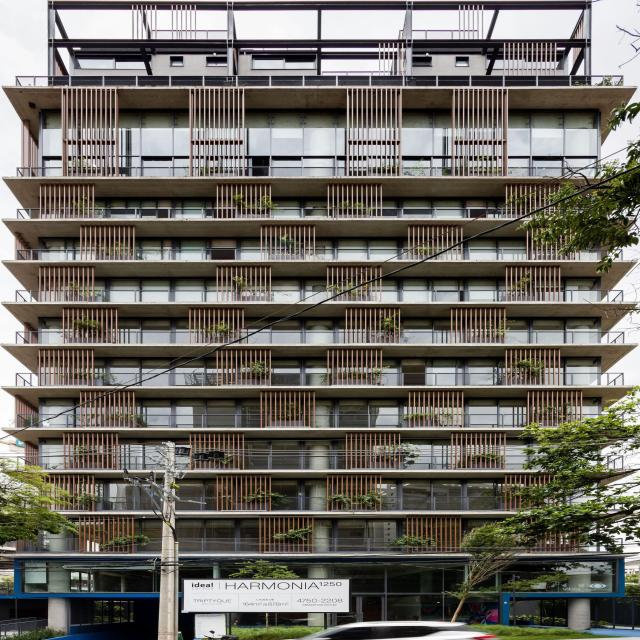Railing: (21, 538, 545, 552), (14, 373, 624, 385), (15, 248, 622, 260), (14, 332, 621, 343), (15, 291, 621, 302), (18, 415, 551, 426), (21, 457, 554, 468), (46, 498, 579, 509), (17, 208, 549, 218)
door: (355, 594, 382, 619)
plant: (461, 397, 640, 558), (521, 145, 640, 272), (0, 460, 87, 548), (225, 561, 303, 578)
wall: (0, 0, 635, 640)
windows: (19, 561, 612, 627), (37, 109, 611, 165), (36, 439, 595, 470), (32, 318, 596, 344), (39, 277, 596, 303), (36, 356, 600, 372), (63, 520, 566, 537), (38, 399, 595, 414), (39, 481, 568, 496), (39, 237, 597, 248), (40, 199, 579, 208), (73, 58, 144, 70), (484, 58, 557, 69), (246, 58, 310, 68)
